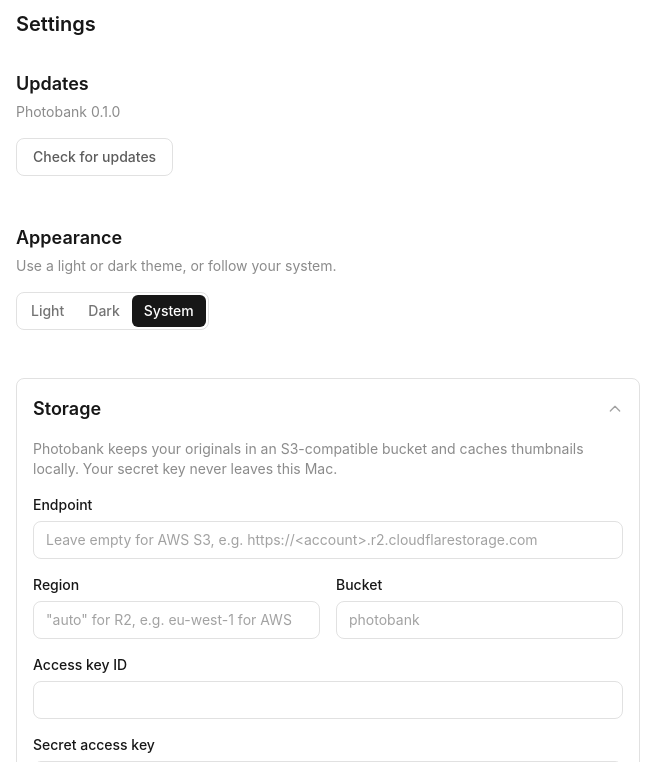
Test: Settings updates section › surfaces a check failure inline
Expected: the text "Photobank 0.1.0" is shown, [16, 103, 120, 120]
Click the button "Check for updates": (95, 157) [16, 138, 173, 176]
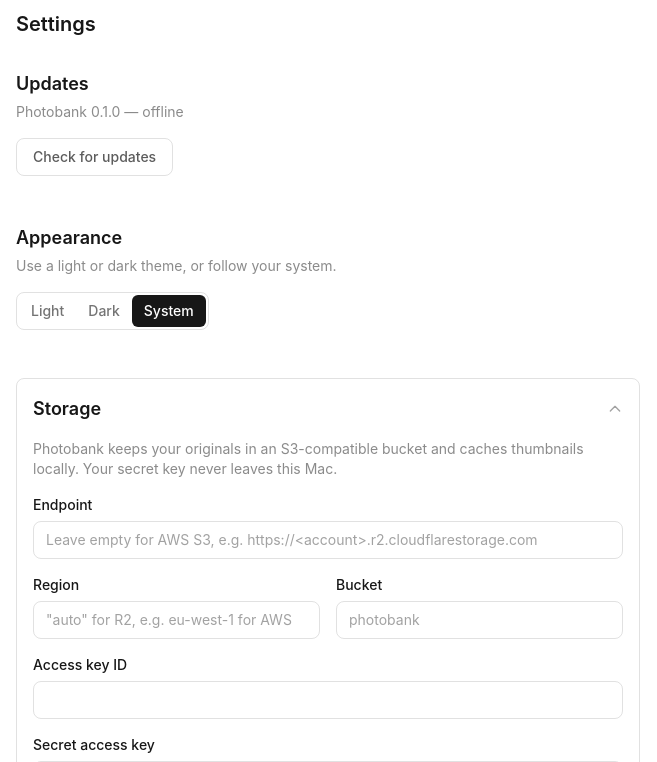
Expected: the text "Photobank 0.1.0 — offline" is shown, [16, 103, 184, 120]
